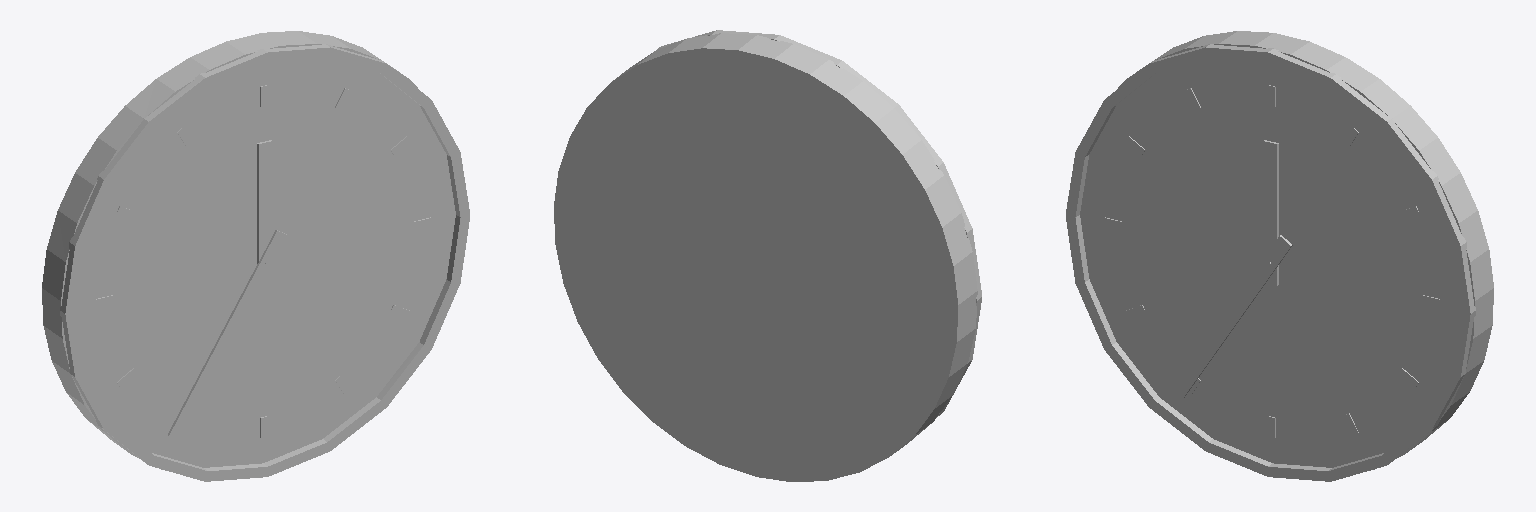
Rendered from clock.obj.
The picture shows the model from 3 angles: view 1: azimuth 30°, elevation 25°; view 2: azimuth 150°, elevation 25°; view 3: azimuth 330°, elevation 25°; orthographic projection.
Parts seen in each view (by area): view 1: Clocks; view 2: Clocks; view 3: Clocks.
Boxes of the visible parts, x1=… form: Clocks: x1=42, y1=31, x2=469, y2=481; Clocks: x1=554, y1=30, x2=981, y2=481; Clocks: x1=1066, y1=31, x2=1493, y2=481.
Size of the model in its own units: 0.5101 by 0.5109 by 0.052.